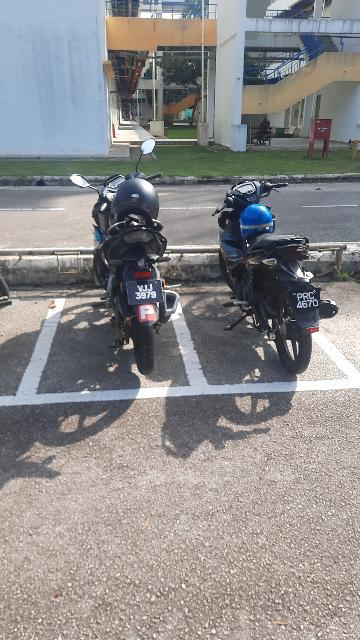License_Plate: (123, 280, 171, 307), (288, 288, 335, 314)
motorcycle: (69, 133, 184, 383), (217, 174, 345, 377)
